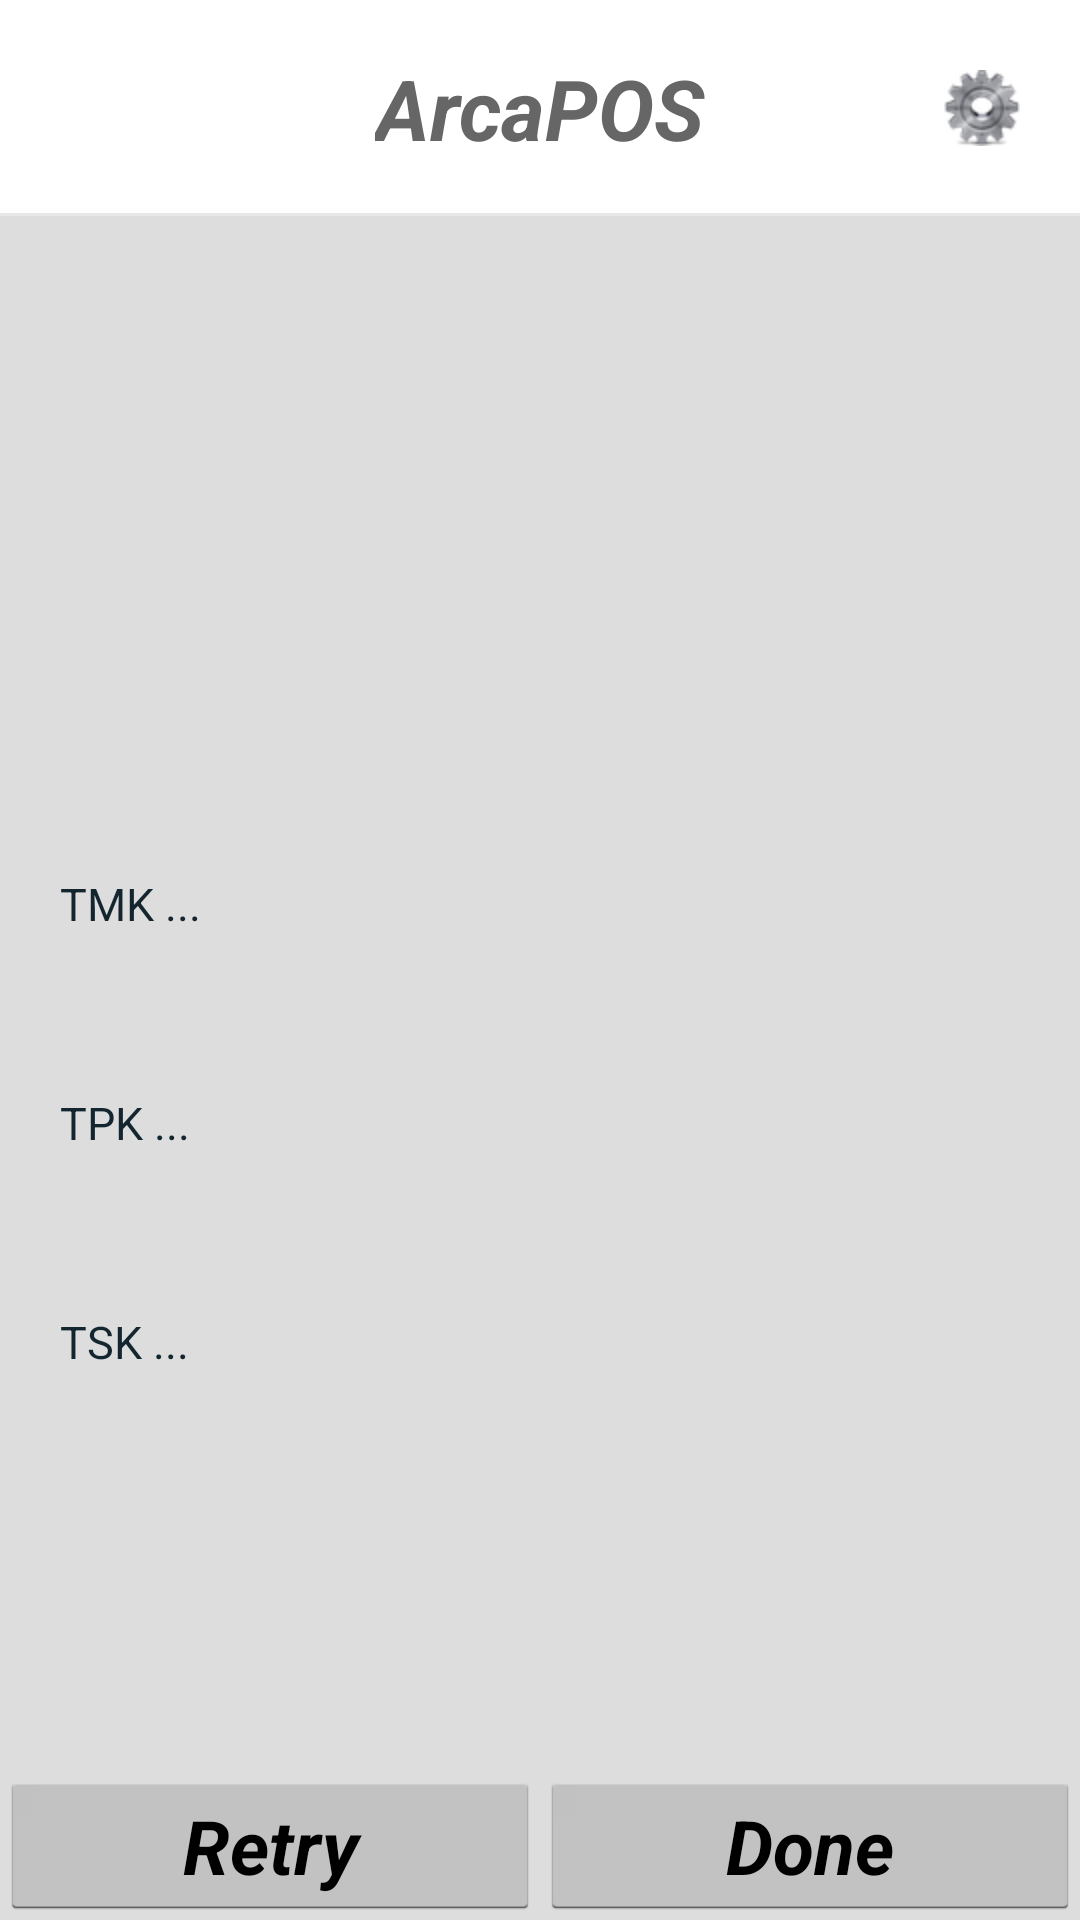

Icon click points for this 1080 x 1920 phone screenshot, format (x=x, y=y):
settings: (x=982, y=108)
